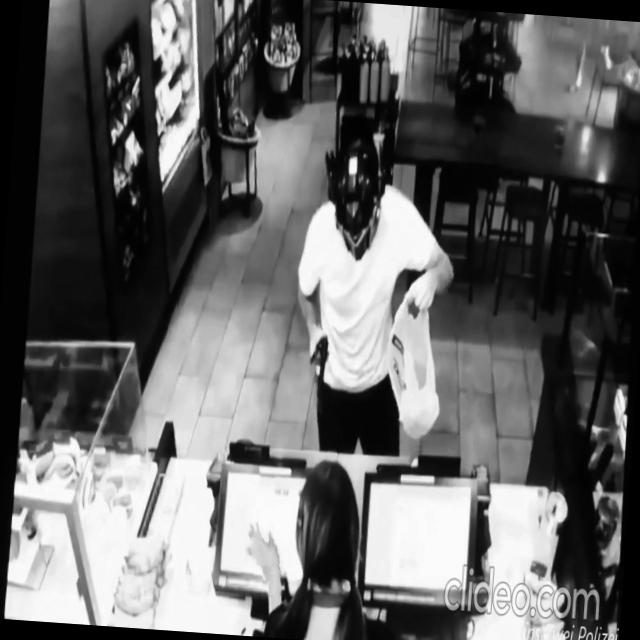gun: (312, 330, 331, 392)
person: (239, 450, 423, 640)
person with a gun: (284, 124, 463, 462)
